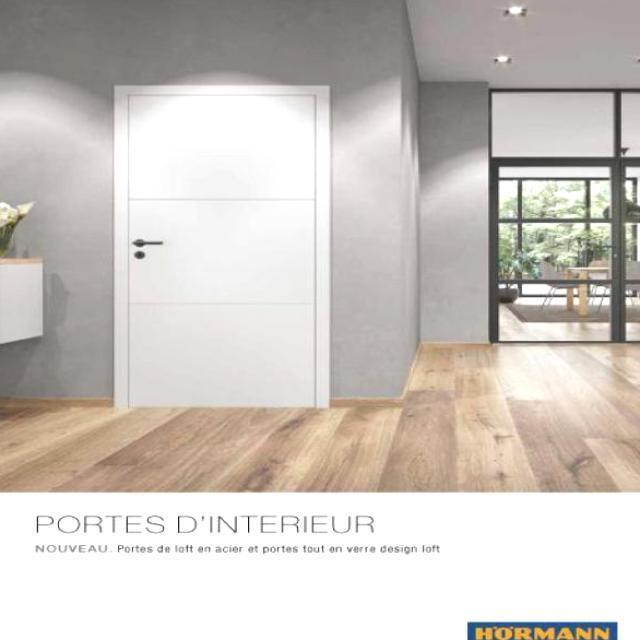door: (114, 84, 329, 409)
